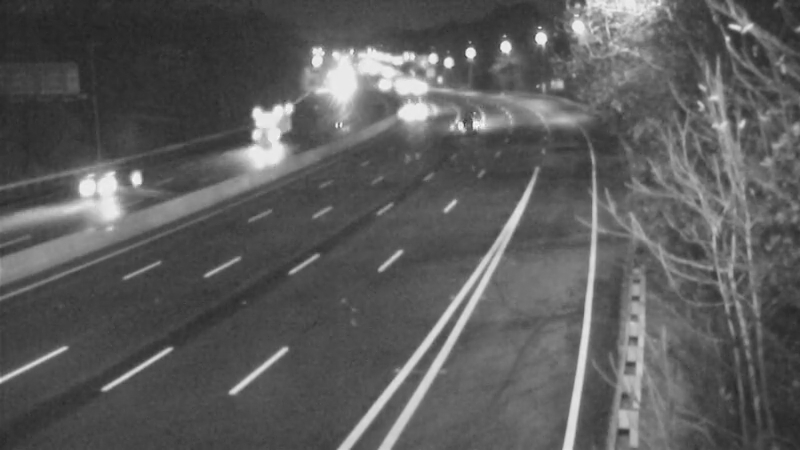vehicle: (57, 140, 137, 220), (377, 84, 427, 134), (432, 98, 482, 148), (235, 110, 285, 160)
